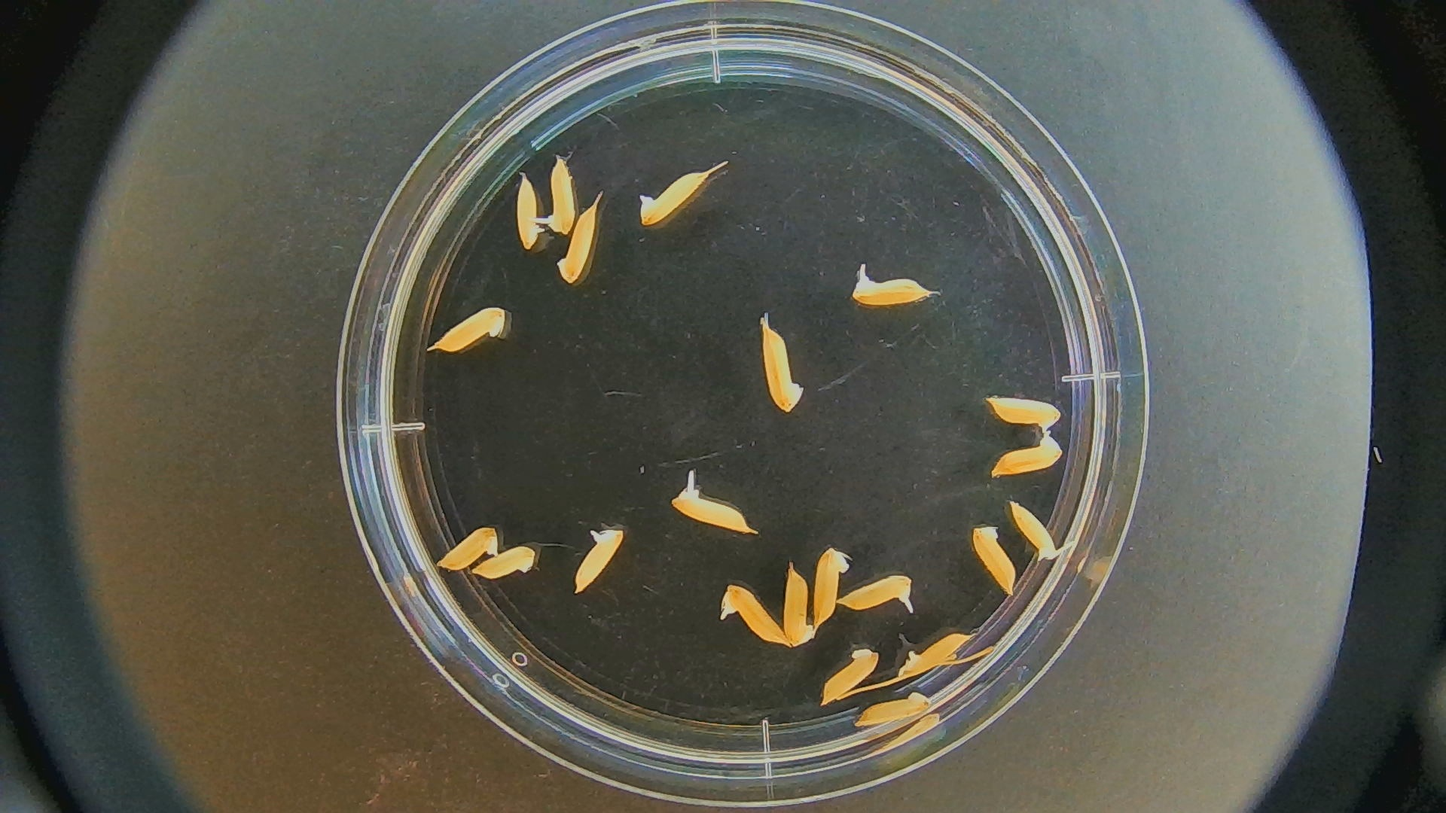no: (639, 166, 710, 226), (776, 558, 818, 653), (894, 629, 969, 681), (437, 521, 502, 577), (435, 303, 505, 353), (812, 531, 847, 630), (972, 521, 1015, 599), (555, 209, 597, 288), (508, 166, 545, 254), (1010, 497, 1060, 562), (819, 650, 878, 705), (988, 431, 1060, 476), (758, 333, 798, 413), (850, 692, 934, 729), (989, 395, 1061, 429), (470, 547, 541, 580)
yes: (721, 586, 783, 649), (669, 489, 751, 531), (572, 529, 627, 590), (840, 574, 915, 614), (854, 273, 923, 311), (548, 154, 578, 233)
